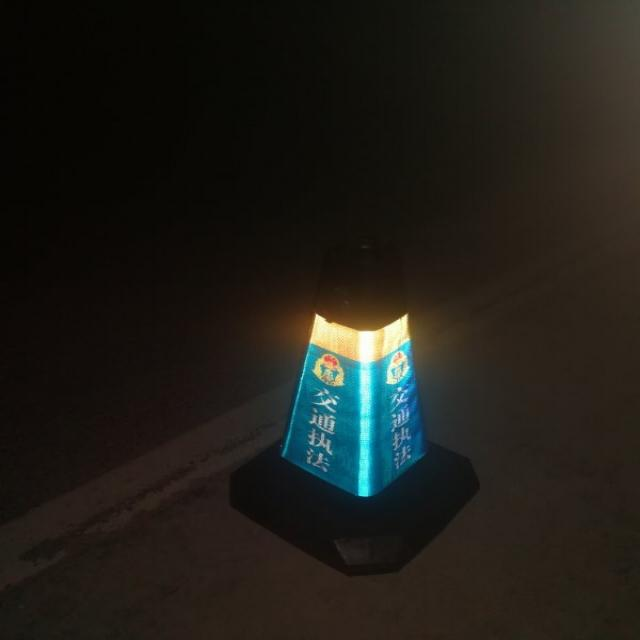reflective_cone: (226, 234, 483, 578)
